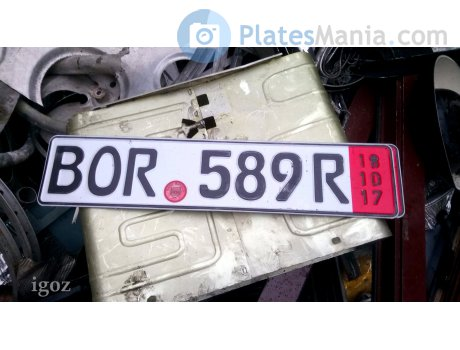License Plates: (66, 147, 345, 199)
